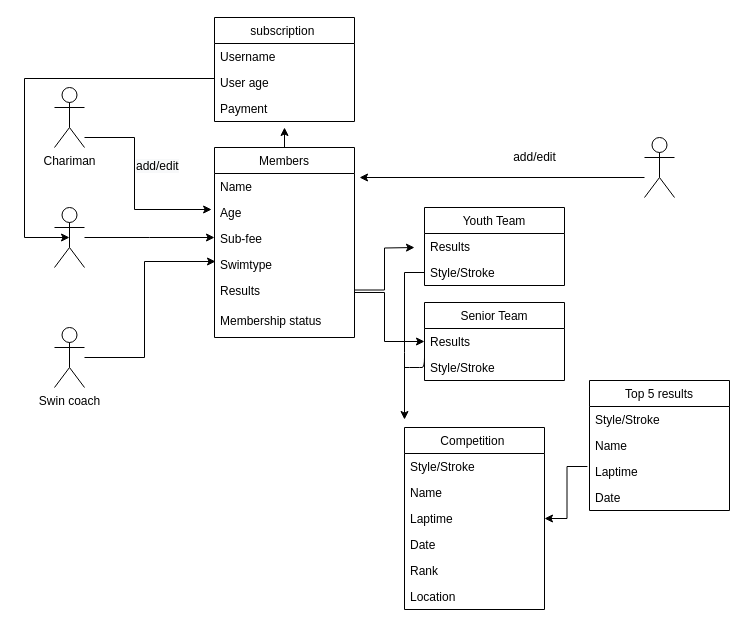
Some shapes in this 747 by 630 pixel diagram are drawn without their labels. The shapes that lost their labels are listed below. From the top down, each one's centre as x and y in pixels, then its label:
(x=659, y=167): System
(x=69, y=237): Finance
